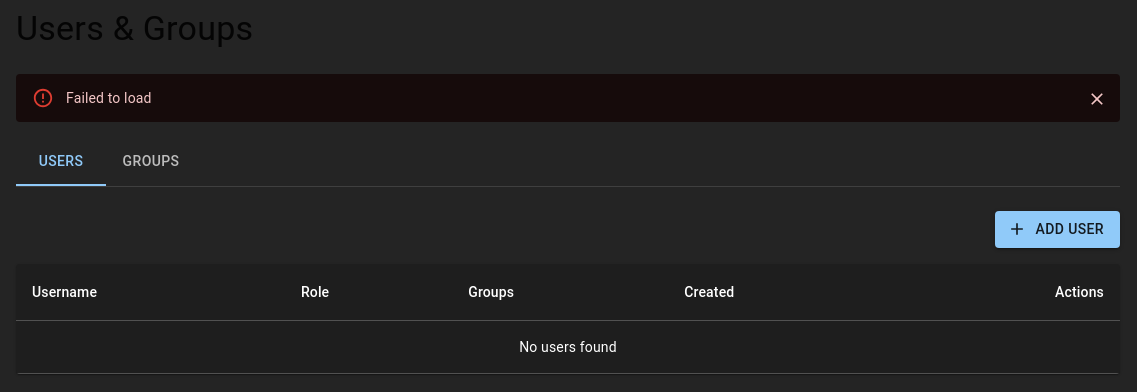
Test: UsersPage › error dismissal › can dismiss error alert
Expected: the text "Failed to load" is shown, left=66, top=90, right=152, bottom=106
Click the button named "close".
click(1097, 99)  # box left=1082, top=84, right=1112, bottom=114
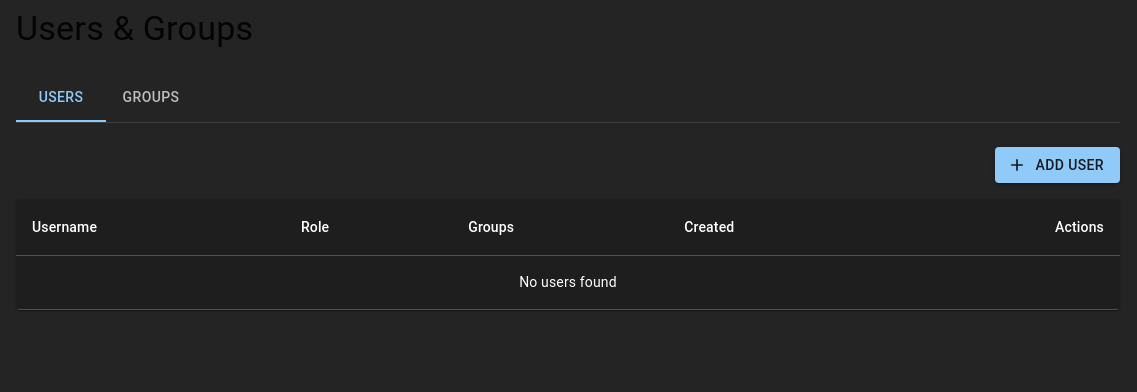
Now the text "Failed to load" is gone
